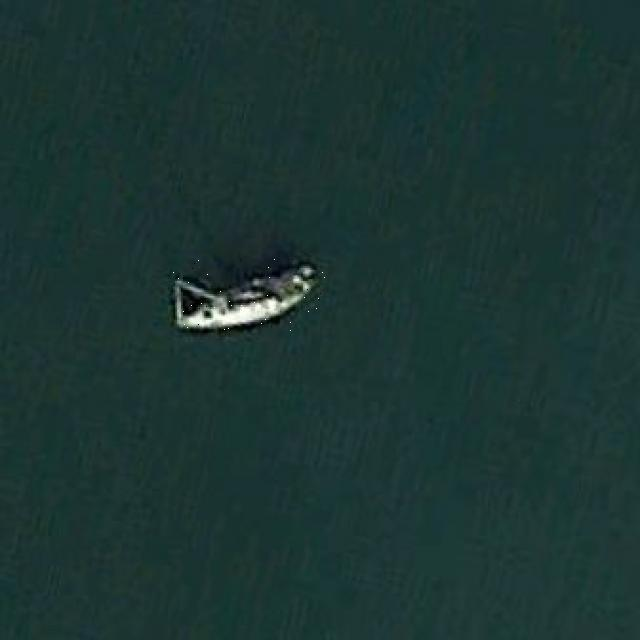boat: (171, 259, 326, 331)
